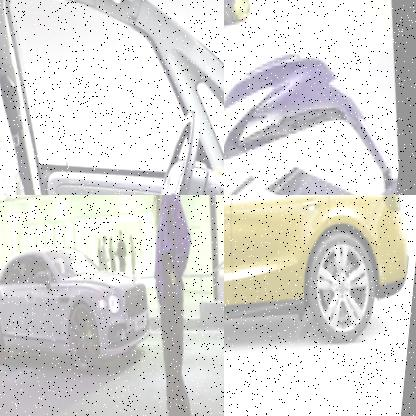bike: (224, 0, 416, 195)
car: (224, 195, 416, 390), (0, 223, 158, 363)
